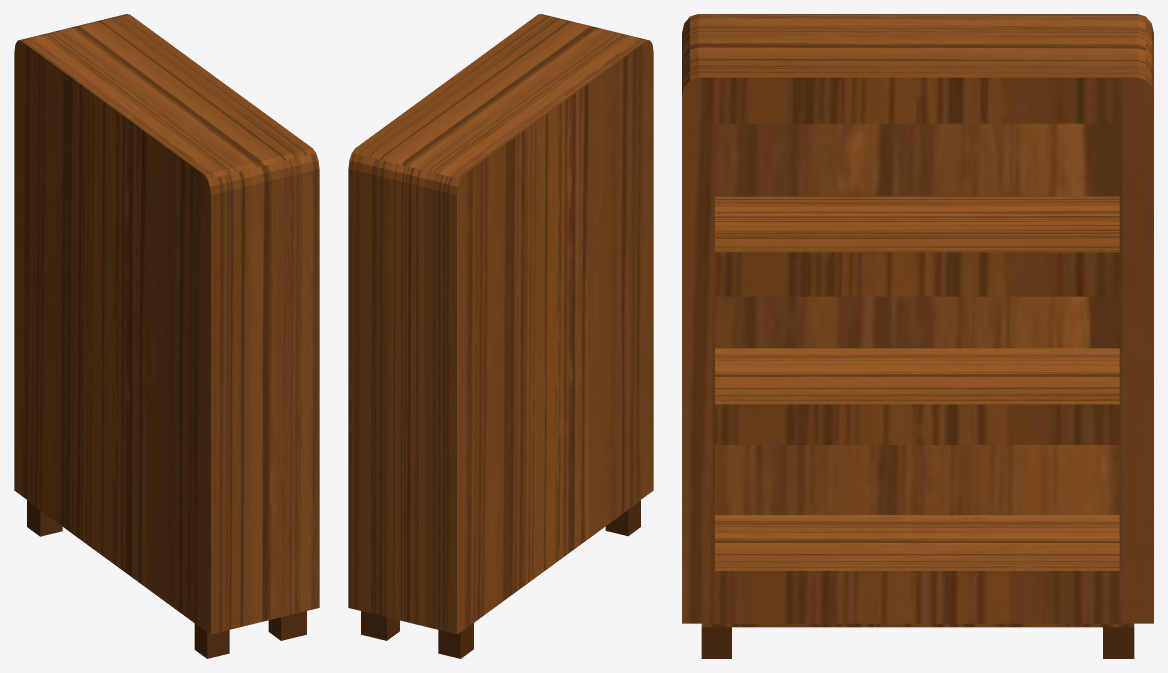
The model's file is Closet.fbx.
3 views of the same model, side by side, from view 1: azimuth 30°, elevation 25°; view 2: azimuth 150°, elevation 25°; view 3: azimuth 270°, elevation 25° (orthographic). The views are drawn at different scales.
Parts seen in each view (by area): view 1: Closet; view 2: Closet; view 3: Closet.
Part boxes in pixels (x1,y1,x2,y2): Closet: (14,14,319,658); Closet: (348,14,653,658); Closet: (682,14,1153,658).
Size of the model in its own units: 235 by 1004 by 735.
2 materials, 1 textured.
